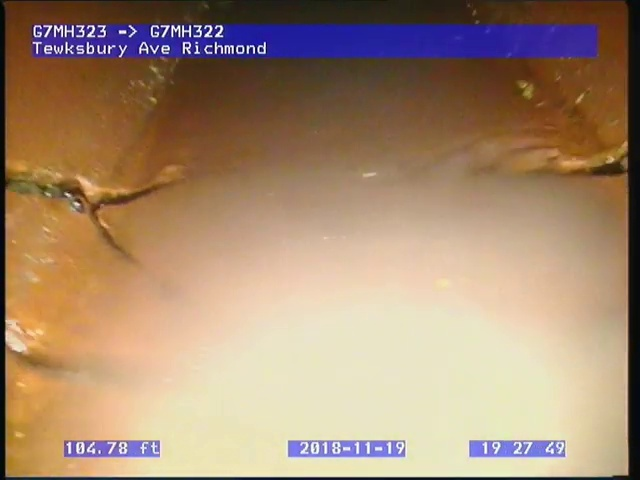crack: (6, 157, 196, 271), (468, 140, 627, 189)
